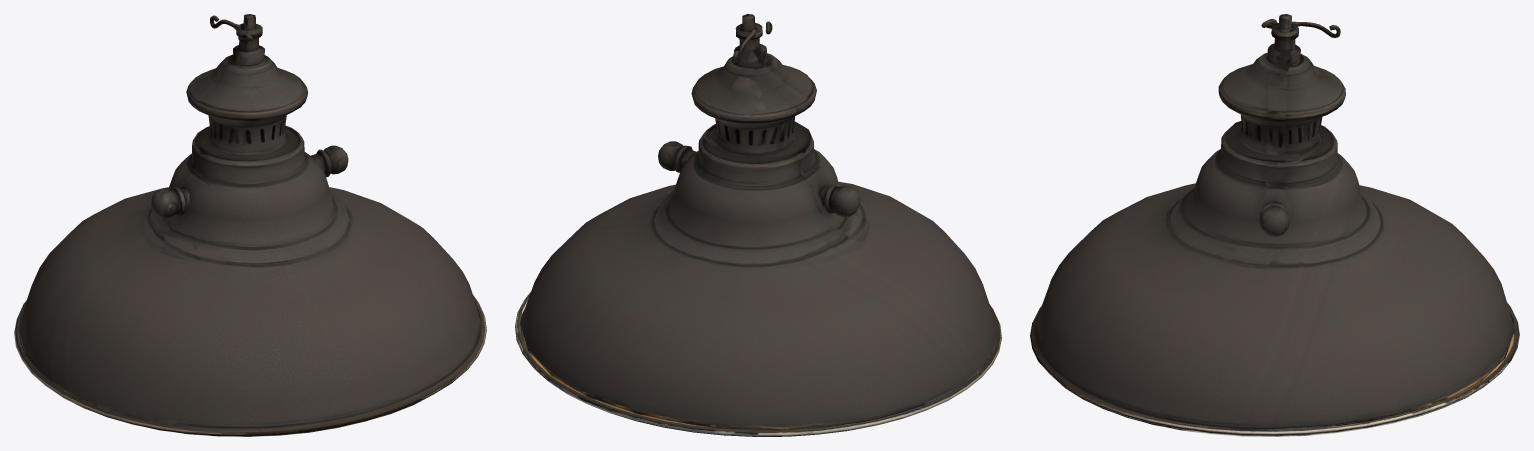
The model's file is OparetionRoom_AI_Prop.010.fbx.
The picture shows the model from 3 angles, left to right: view 1: azimuth 30°, elevation 25°; view 2: azimuth 150°, elevation 25°; view 3: azimuth 270°, elevation 25°; orthographic projection. The views are drawn at different scales.
Visible parts, largest first — view 1: OparetionRoom_AI_Prop.010; view 2: OparetionRoom_AI_Prop.010; view 3: OparetionRoom_AI_Prop.010.
Boxes of the visible parts, <box> form: OparetionRoom_AI_Prop.010: <box>14,14,486,436</box>; OparetionRoom_AI_Prop.010: <box>515,14,1001,436</box>; OparetionRoom_AI_Prop.010: <box>1030,14,1519,436</box>.
Bounding box in the file's own units: 52.65 × 45.34 × 52.7.
